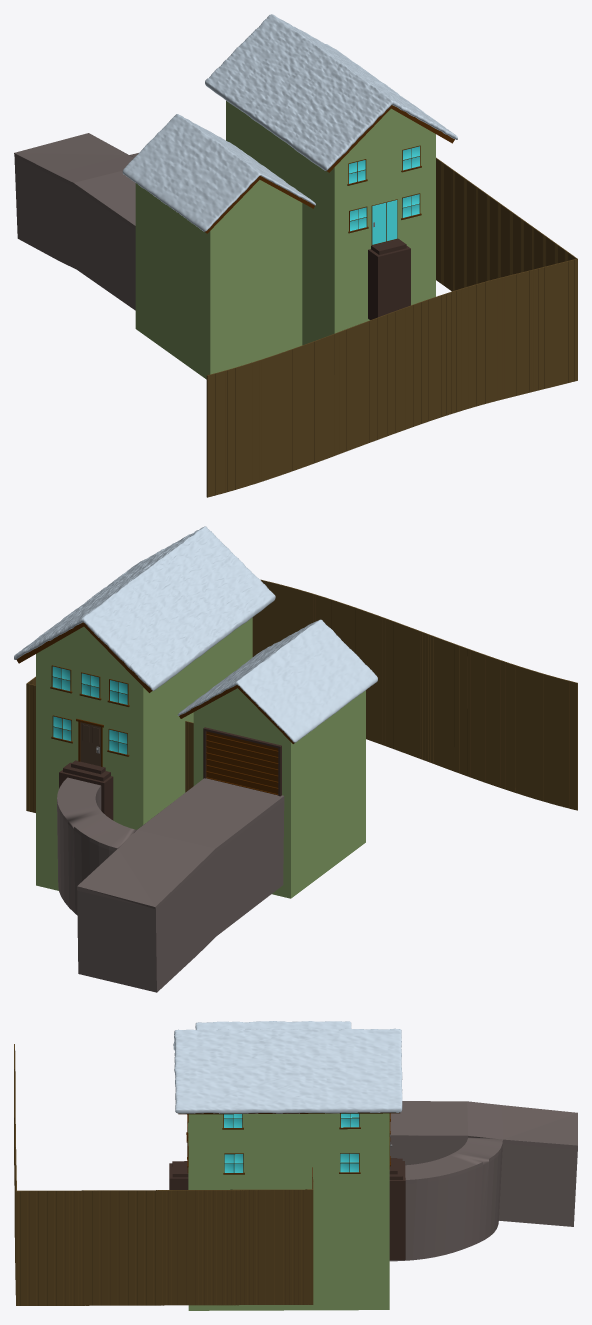
Rendered from broflovskishouse_compressed.glb.
3 renders of one model, top to bottom at view 1: azimuth 30°, elevation 25°; view 2: azimuth 150°, elevation 25°; view 3: azimuth 270°, elevation 25°, orthographic. The views are drawn at different scales.
Visible parts, largest first — view 1: Cube.795, Cube.790, Cube.787, Cube.807, Cube.789, Cube.794; view 2: Cube.790, Cube.807, Cube.795, Cube.787, Cube.789, Cube.794, Cube.792; view 3: Cube.795, Cube.790, Cube.807, Cube.787, Cube.789, Cube.794.
Boxes of the visible parts, left/top/right/bottom form: Cube.795: left=206, top=157, right=577, bottom=497; Cube.790: left=135, top=101, right=435, bottom=379; Cube.787: left=122, top=14, right=457, bottom=231; Cube.807: left=14, top=133, right=138, bottom=310; Cube.789: left=178, top=105, right=454, bottom=319; Cube.794: left=349, top=146, right=419, bottom=244; Cube.790: left=36, top=617, right=365, bottom=898; Cube.807: left=57, top=777, right=284, bottom=992; Cube.795: left=26, top=579, right=577, bottom=812; Cube.787: left=14, top=526, right=377, bottom=742; Cube.789: left=16, top=622, right=294, bottom=820; Cube.794: left=52, top=666, right=127, bottom=754; Cube.792: left=80, top=722, right=100, bottom=766; Cube.795: left=14, top=1044, right=313, bottom=1305; Cube.790: left=188, top=1113, right=389, bottom=1310; Cube.807: left=389, top=1101, right=577, bottom=1261; Cube.787: left=173, top=1021, right=402, bottom=1113; Cube.789: left=169, top=1112, right=405, bottom=1259; Cube.794: left=224, top=1113, right=359, bottom=1172.
Bounding box in the file's own units: 4.26 × 2.99 × 5.92.
